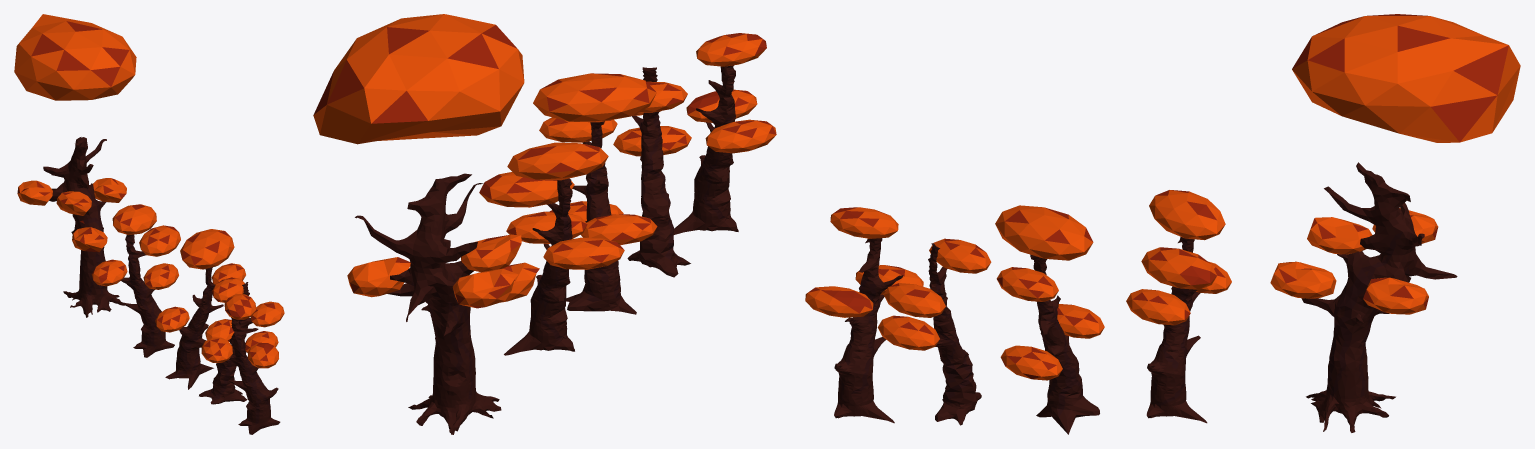
The model's file is TREES.fbx.
The picture shows the model from 3 angles, left to right: view 1: azimuth 30°, elevation 25°; view 2: azimuth 150°, elevation 25°; view 3: azimuth 270°, elevation 25°; orthographic projection. The views are drawn at different scales.
Visible parts, largest first — view 1: Icosphere.001, Cylinder, Cylinder.001, Icosphere.002, Icosphere.009; view 2: Icosphere.001, Cylinder, Cylinder.001, Icosphere.002, Icosphere.009; view 3: Icosphere.001, Cylinder.001, Cylinder, Icosphere.002, Icosphere.009.
Boxes of the visible parts, x1=… form: Icosphere.001: x1=14, y1=14, x2=136, y2=317; Cylinder: x1=91, y1=204, x2=180, y2=357; Cylinder.001: x1=155, y1=229, x2=245, y2=389; Icosphere.002: x1=201, y1=294, x2=280, y2=434; Icosphere.009: x1=199, y1=277, x2=284, y2=404; Icosphere.001: x1=313, y1=14, x2=539, y2=434; Cylinder: x1=479, y1=142, x2=624, y2=355; Cylinder.001: x1=533, y1=73, x2=657, y2=314; Icosphere.002: x1=673, y1=33, x2=776, y2=234; Icosphere.009: x1=613, y1=67, x2=691, y2=277; Icosphere.001: x1=1270, y1=14, x2=1520, y2=432; Cylinder.001: x1=995, y1=205, x2=1104, y2=434; Cylinder: x1=1126, y1=190, x2=1231, y2=423; Icosphere.002: x1=805, y1=207, x2=923, y2=423; Icosphere.009: x1=877, y1=238, x2=991, y2=425.
Bounding box in the file's own units: 735 × 1740 × 2843.
